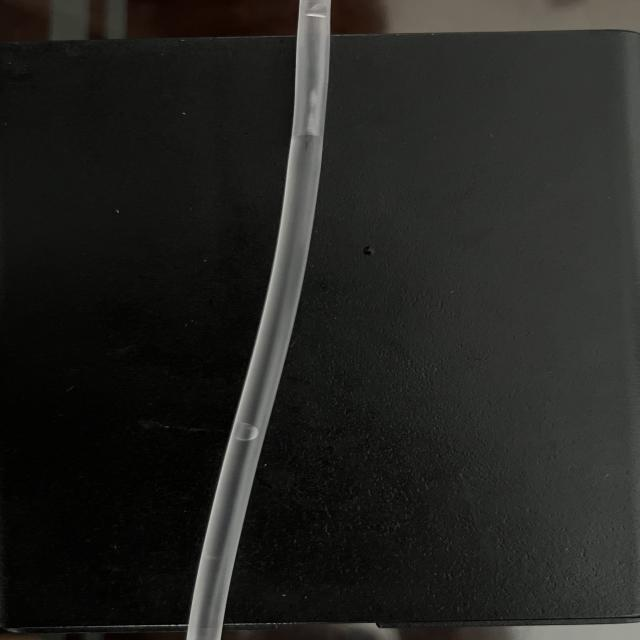bubble: (270, 0, 366, 145), (196, 412, 288, 452)
